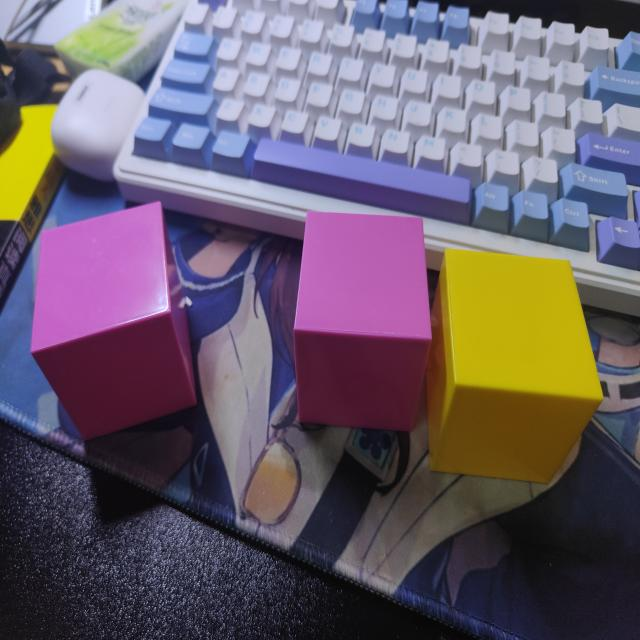pink: (27, 204, 198, 445), (294, 212, 432, 434)
yellow: (425, 246, 603, 491)
